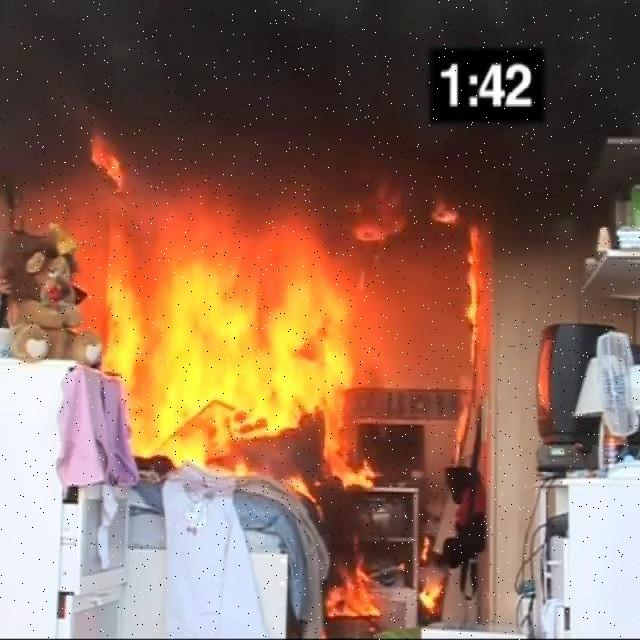fire: (92, 188, 398, 497), (330, 552, 391, 629)
